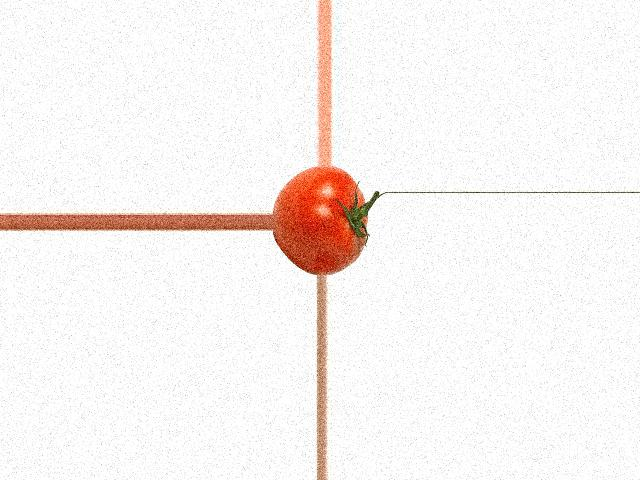tomato: (273, 166, 368, 276)
